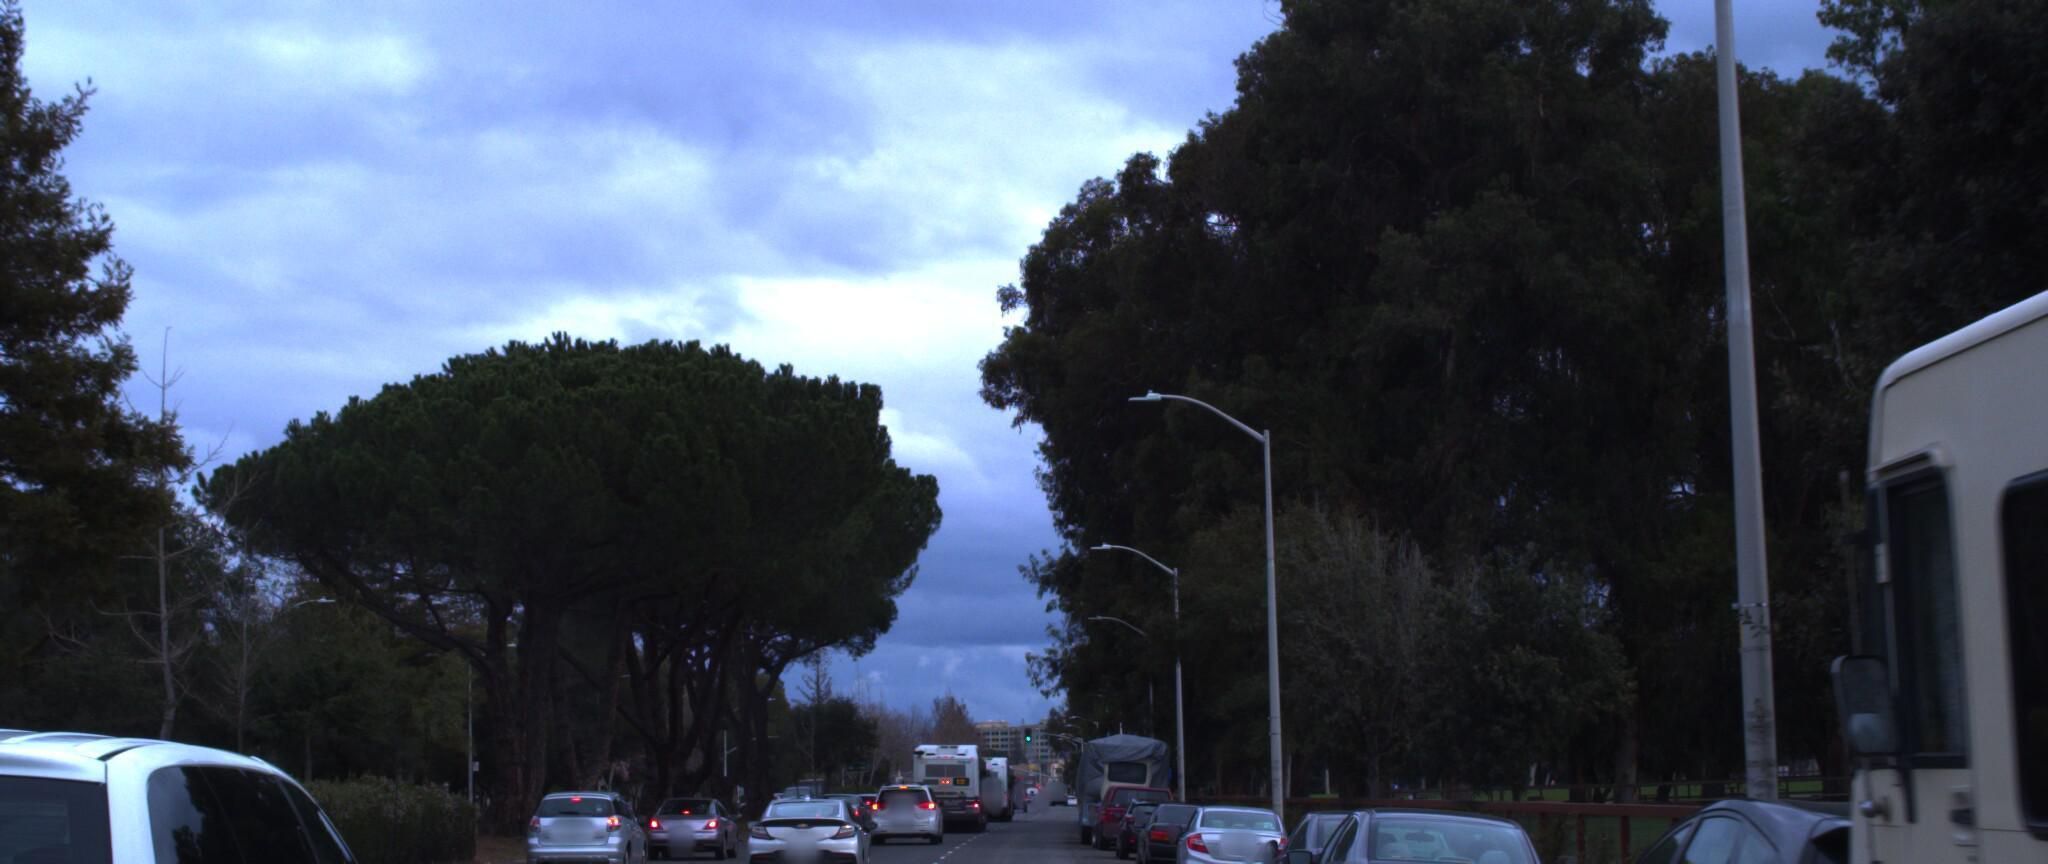car: (0, 654, 508, 864), (1490, 756, 2048, 864), (1266, 780, 1603, 864), (1237, 794, 1489, 864), (505, 773, 649, 864), (728, 779, 867, 864), (1166, 792, 1298, 864), (637, 777, 742, 856), (1130, 792, 1234, 864)
other_vehicle: (1694, 0, 2048, 864)
